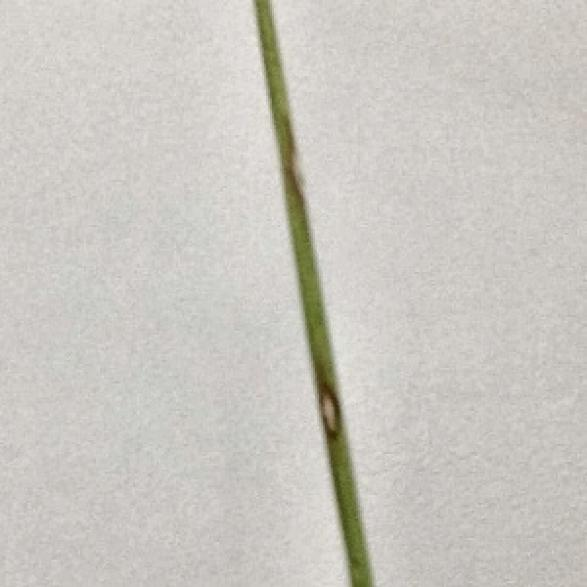Leaf_smut: (274, 126, 315, 251), (317, 362, 350, 436)
